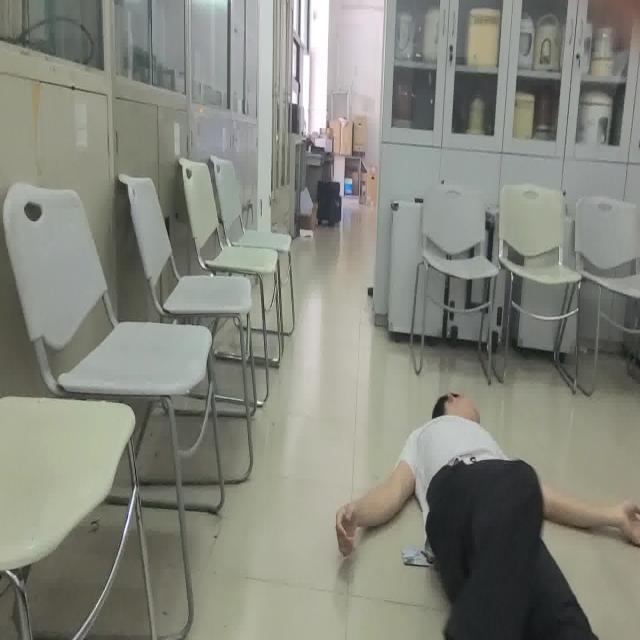fall: (334, 387, 640, 640)
